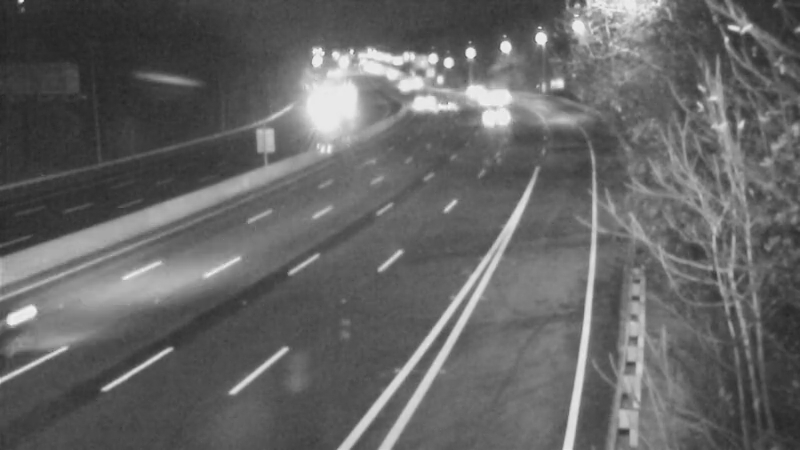vehicle: (1, 264, 89, 374), (394, 76, 444, 126), (419, 83, 469, 133), (465, 92, 515, 142)
